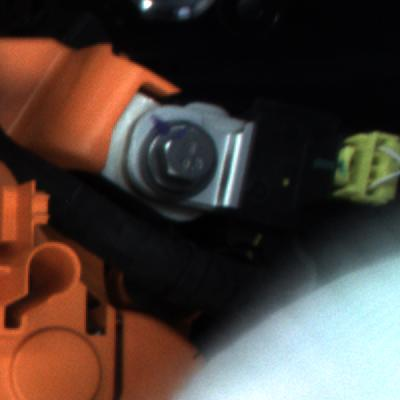nut_b: (133, 108, 234, 195)
